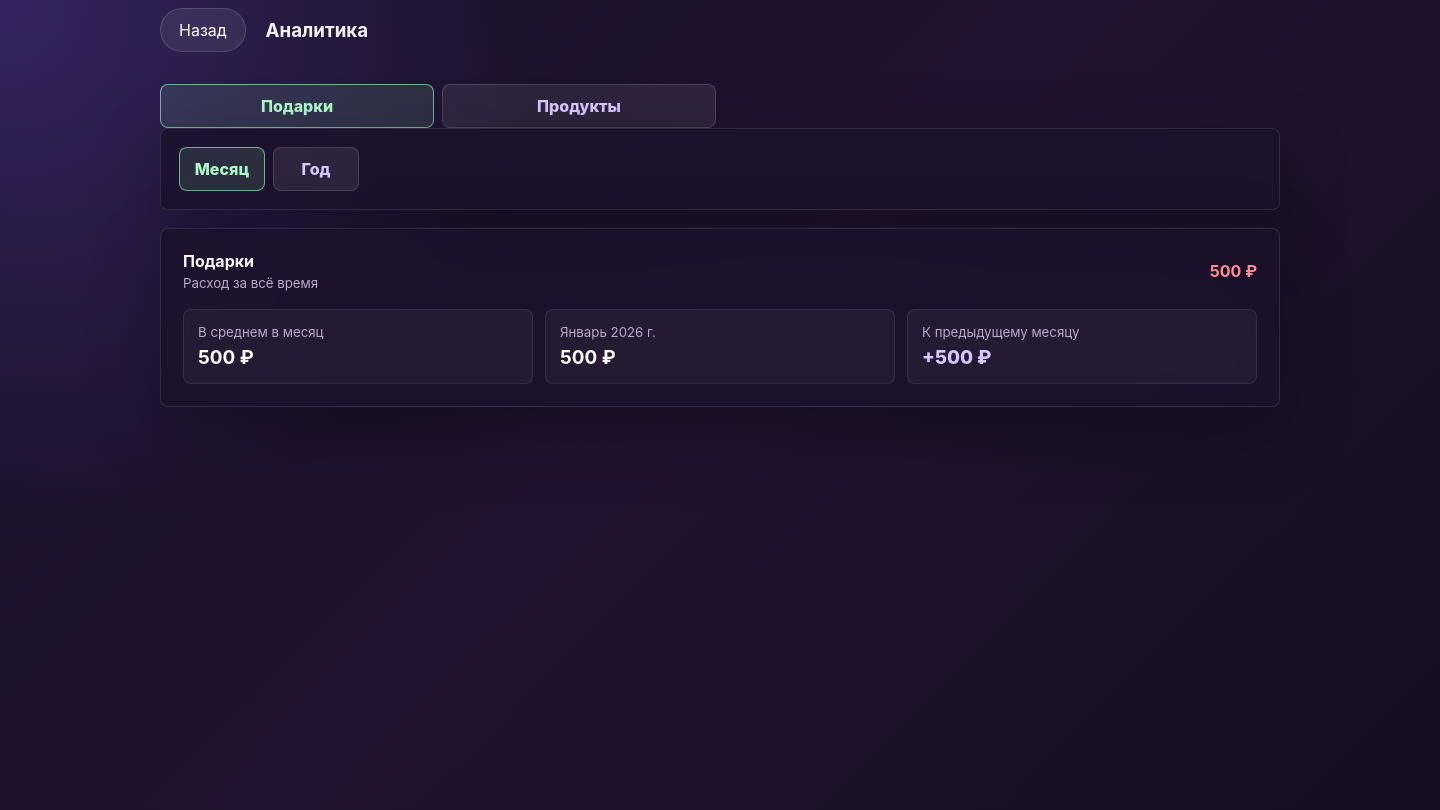
it: CategoryAnalyticsPage › switches the analysed category from the picker and keeps it in the URL
Click the button "Продукты": (579, 106) [442,84,716,128]
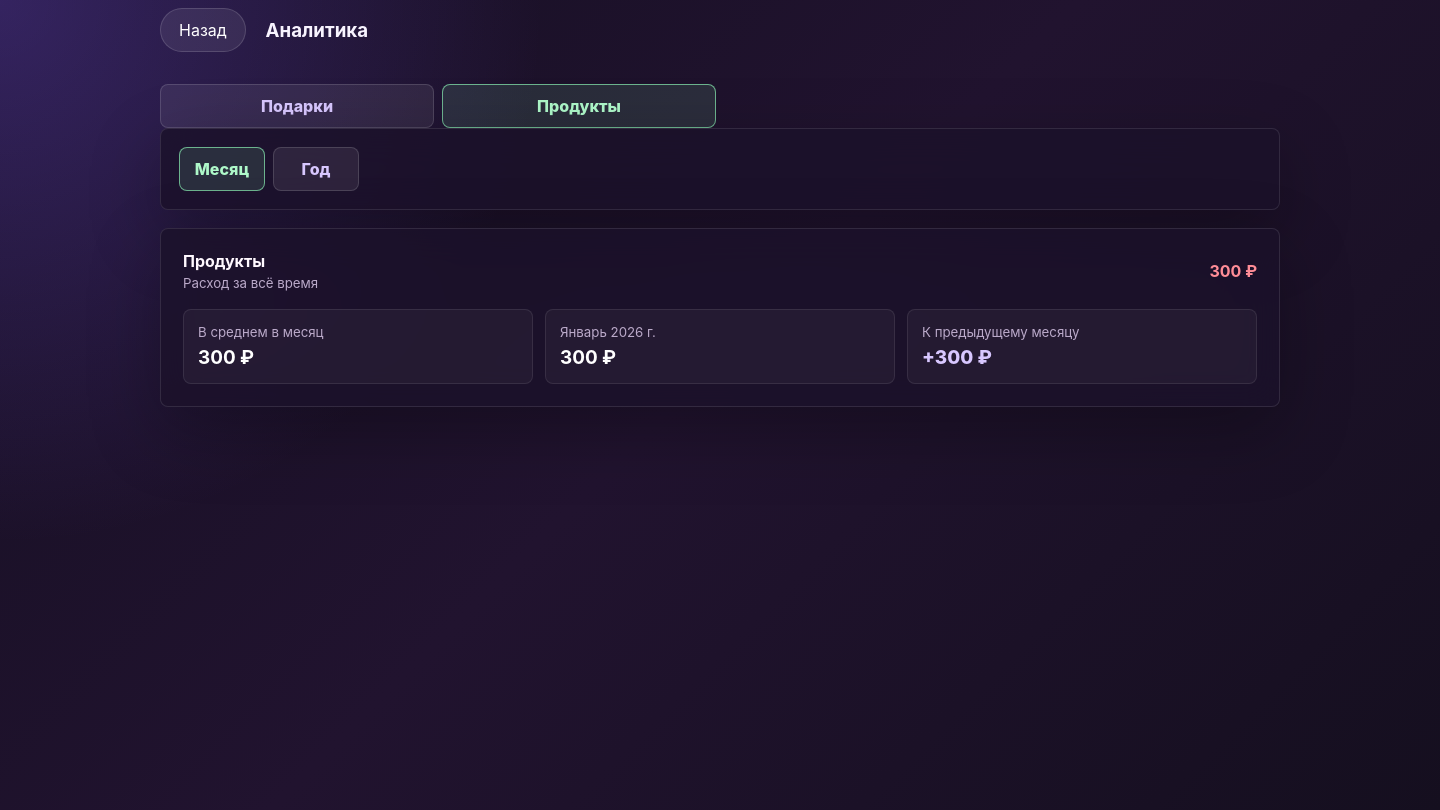
Expected: the element with class "analytics-summary" shows "300", [1209,261,1257,281]
